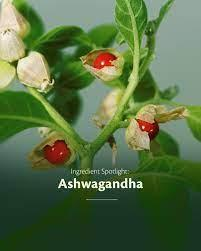healthy_leaf: (21, 15, 201, 222)
